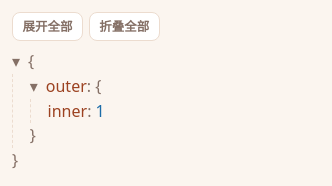
Test: toggling a node hides its children
What coordinates should you click on to do the following:
click the button "▾ outer: {"
I would click on:
 (66, 86)
Its box is [30, 75, 101, 97].
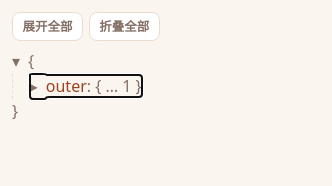
Check: the text "inner" is gone
